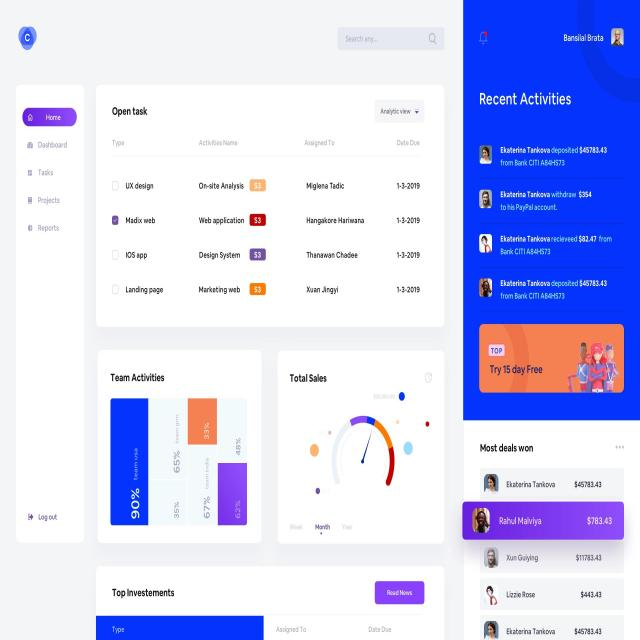button: (375, 580, 425, 605), (23, 509, 62, 525)
input: (337, 26, 445, 51)
select: (374, 99, 425, 123)
